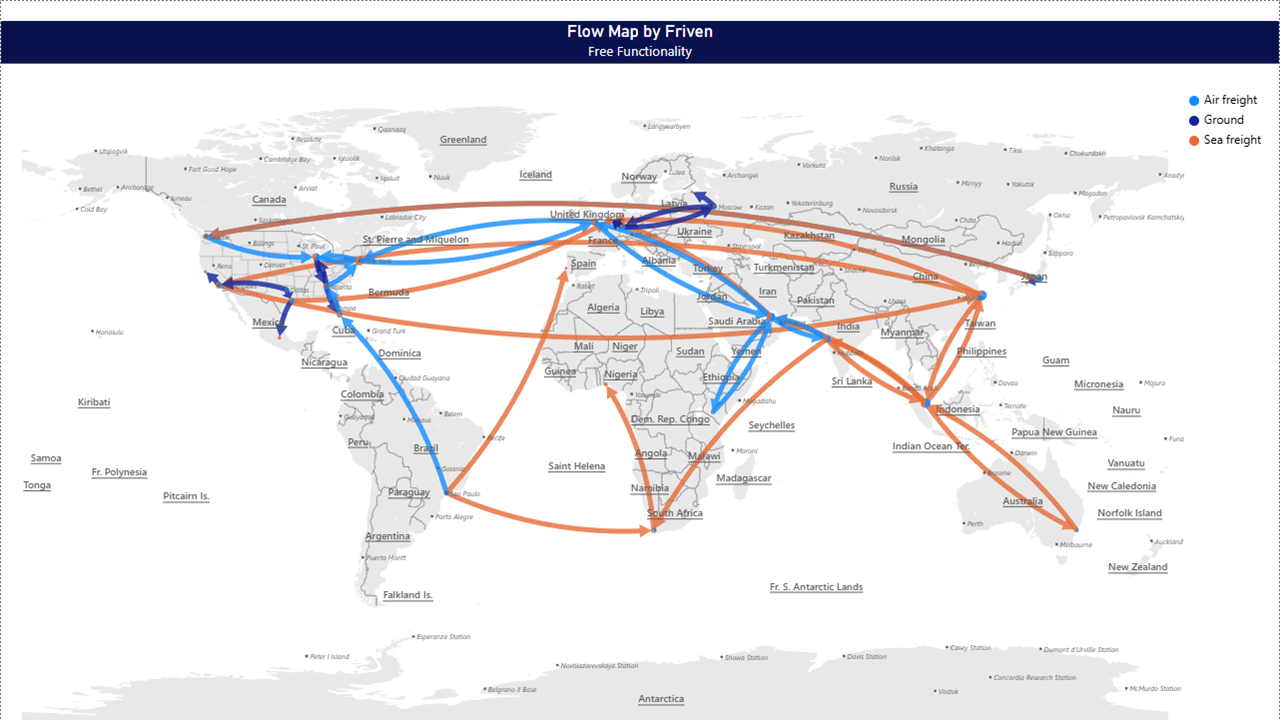

The dashboard page shown, as its layout file describes it:
{"tool":"powerbi","page":{"name":"Basic Flow Map","canvas":[1280,720],"ordinal":0},"visuals":[{"type":"flowMap094E8B8E0C644C80B88BA54992D66F39","title":"Flow Map by Friven","fields":{"origin":["sample-data.Origin"],"originLatitude":["sample-data.OriginLat"],"originLongitude":["sample-data.OriginLon"],"originSize":["Sum(sample-data.OriginShipments)"],"destination":["sample-data.Destination"],"destLatitude":["sample-data.DestLat"],"destLongitude":["sample-data.DestLon"],"destinationSize":["Sum(sample-data.DestShipments)"],"value":["Sum(sample-data.ArrowThickness)"],"legend":["sample-data.Category"]},"box":[0,0,1280,719.8],"z":0}]}

Visuals, with their boxes in screenshot pixels (x1, y1, x2, y2), scaled from the page's 1280x720 canvas onto the 1280x720 screenshot:
"Flow Map by Friven" flowMap094E8B8E0C644C80B88BA54992D66F39: (0,0,1279,719)
